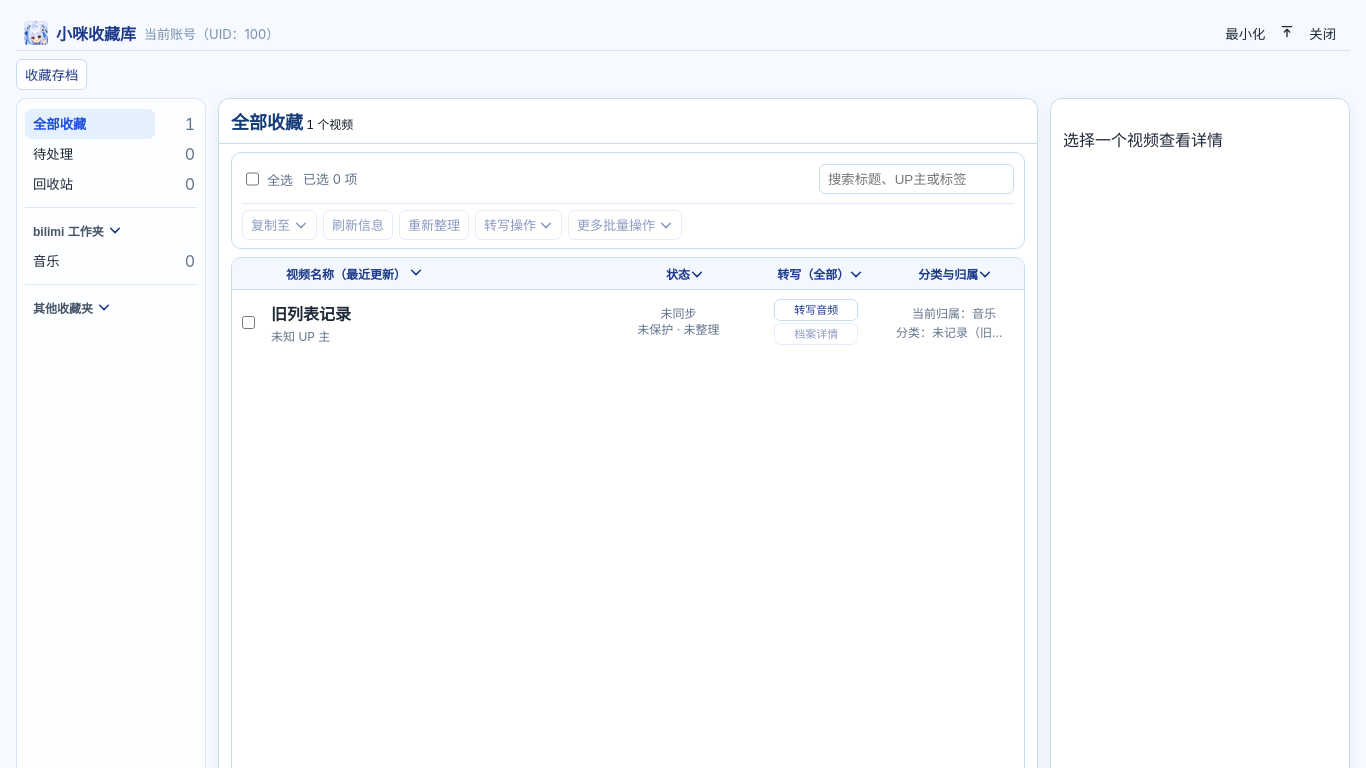
Test: FavoriteLibraryApp › refreshes the page and selected detail when a newer repository revision is signalled as page-valid
The image size is (1366, 768).
Click the text "旧列表记录". click: (311, 314)
box: [271, 304, 351, 324]
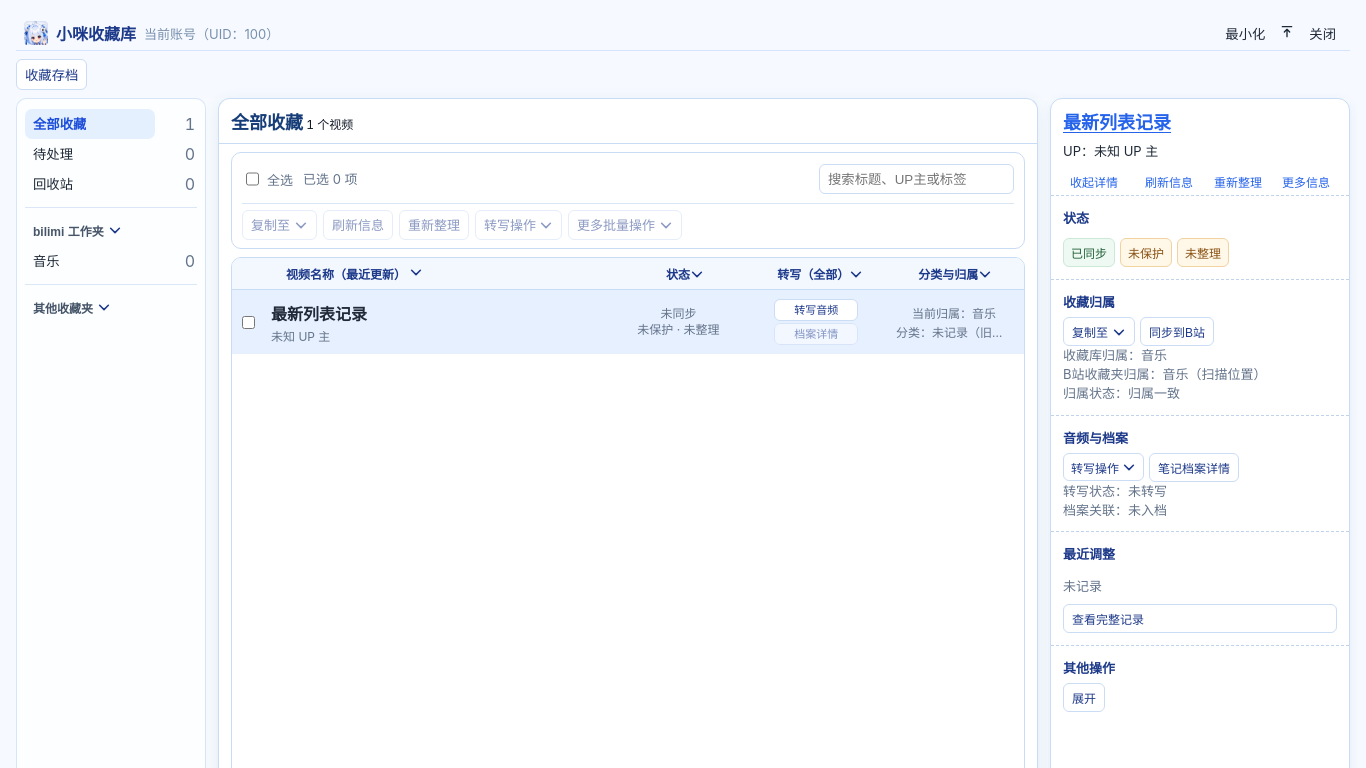
Expected: the text "最新列表记录" is shown, [271, 304, 367, 324]
